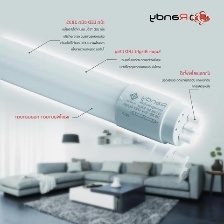light_bulb: (0, 30, 204, 149)
